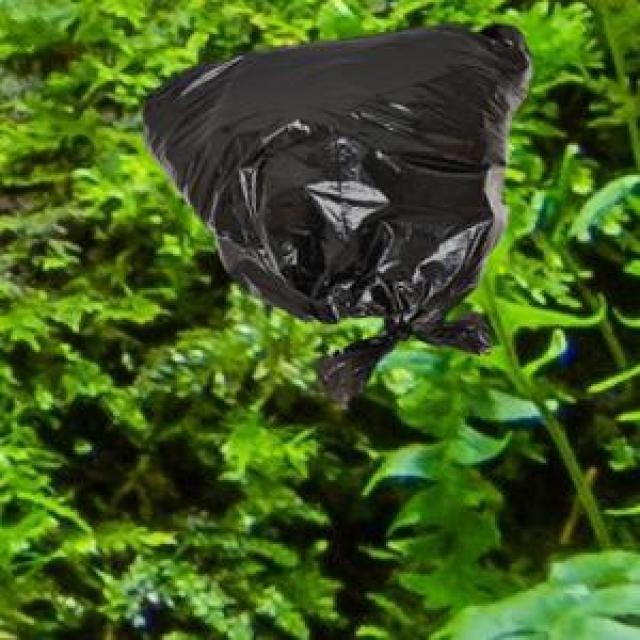miscellaneous trash: (139, 19, 527, 397)
